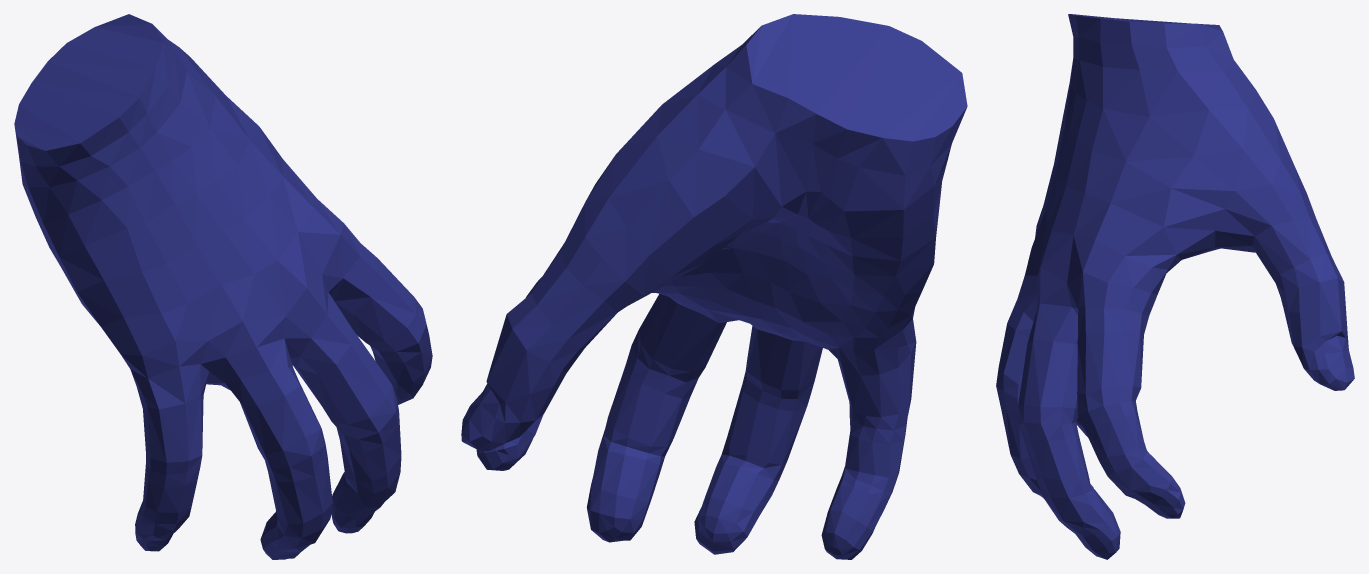
3 views of the same model, side by side, from view 1: azimuth 30°, elevation 25°; view 2: azimuth 150°, elevation 25°; view 3: azimuth 270°, elevation 25° (orthographic). The views are drawn at different scales.
Size of the model in its own units: 0.1337 by 0.1665 by 0.1168.
